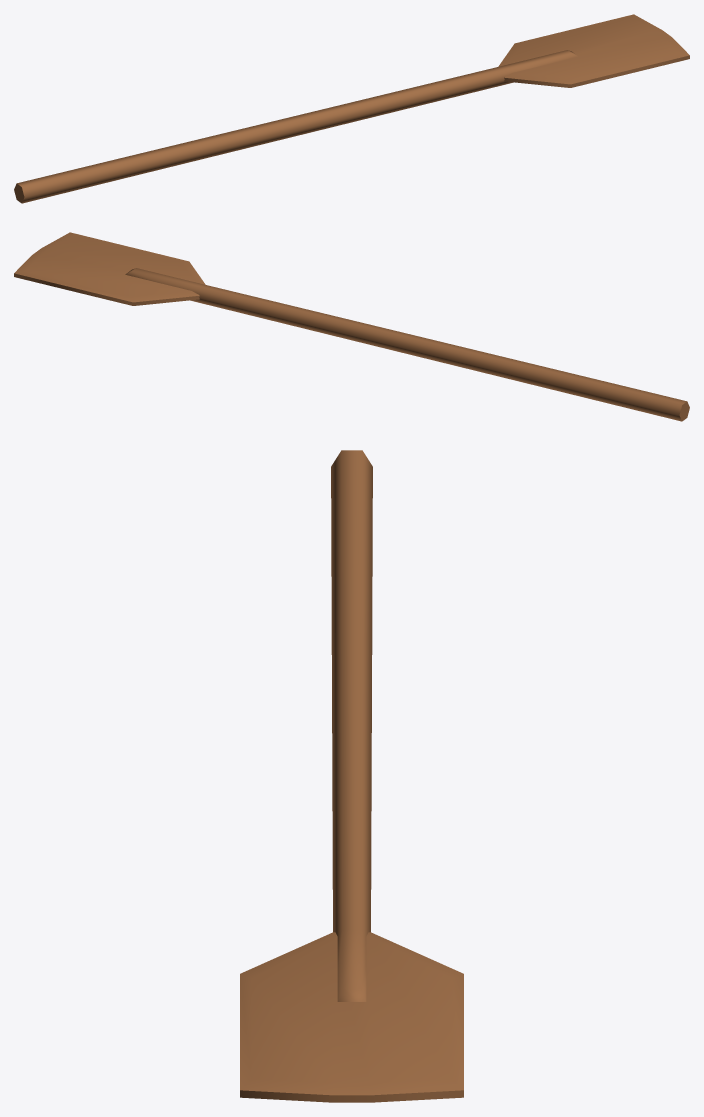
File: SM_Oar.fbx
The picture shows the model from 3 angles, top to bottom: view 1: azimuth 30°, elevation 25°; view 2: azimuth 150°, elevation 25°; view 3: azimuth 270°, elevation 25°; orthographic projection. The views are drawn at different scales.
Visible parts, largest first — view 1: Oar_origin; view 2: Oar_origin; view 3: Oar_origin.
Boxes of the visible parts, x1=… form: Oar_origin: x1=14, y1=14, x2=689, y2=203; Oar_origin: x1=14, y1=232, x2=689, y2=421; Oar_origin: x1=240, y1=450, x2=463, y2=1102.
Size of the model in its own units: 265 by 39.69 by 6.43.
